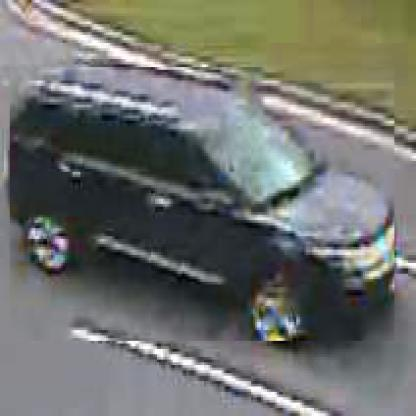car: (11, 68, 397, 345)
